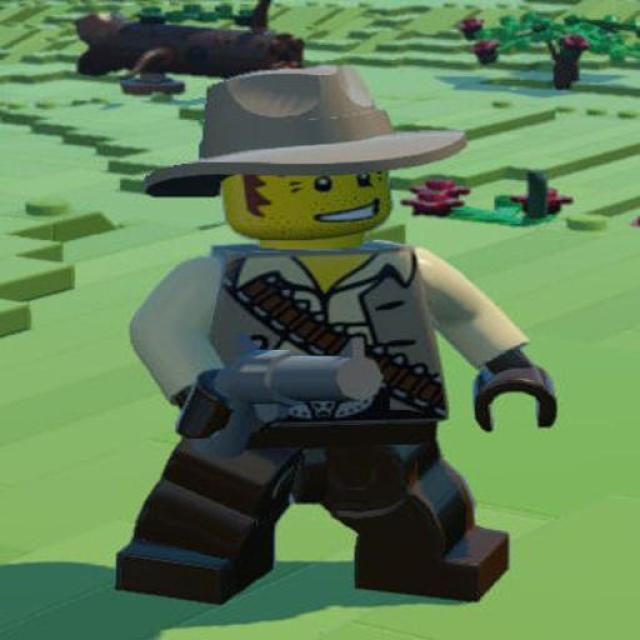pistol: (180, 330, 380, 451)
